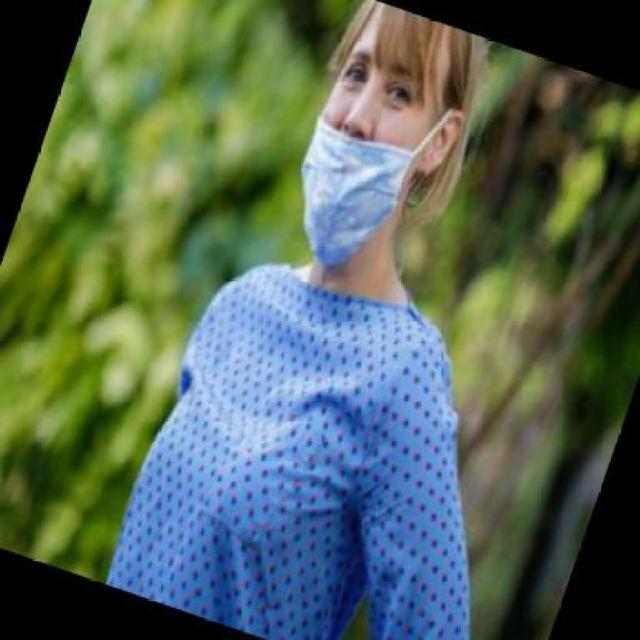hairnet: (264, 0, 470, 291)
